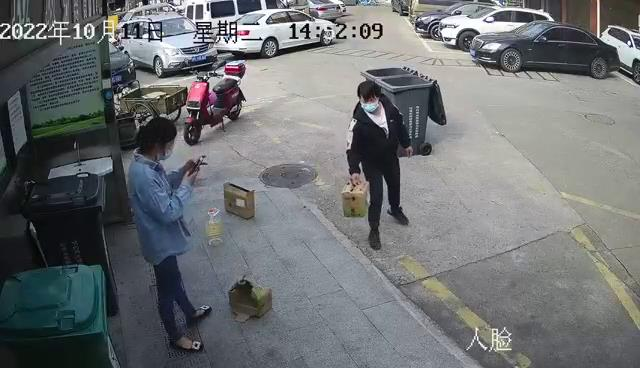person: (335, 76, 420, 255)
suliaozhipin: (203, 204, 226, 250)
worker: (122, 113, 217, 356)
zhizhipin: (225, 272, 276, 326), (220, 179, 258, 222), (339, 177, 372, 222)
